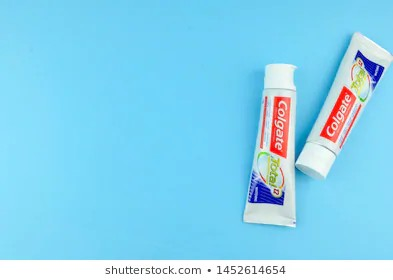colgate-total-150gm: (294, 21, 391, 179), (242, 52, 301, 226)
